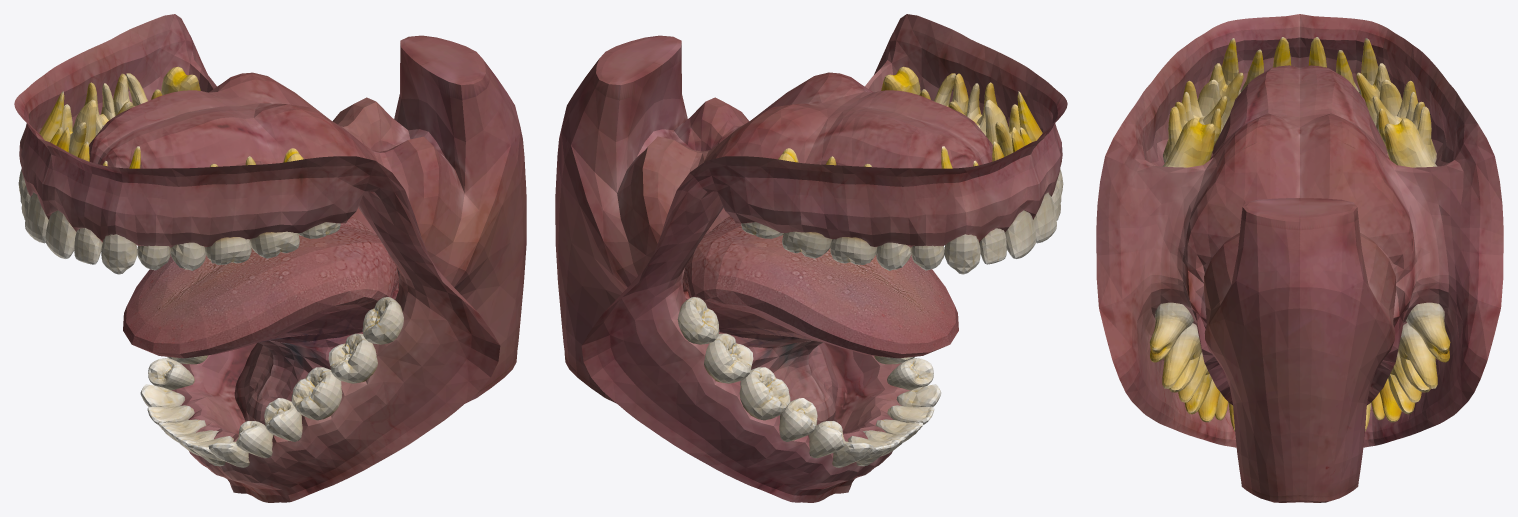
The model's file is 2FZKYMN0ZVCIAEAZLQFIY9D44.fbx.
3 renders of one model, left to right at view 1: azimuth 30°, elevation 25°; view 2: azimuth 150°, elevation 25°; view 3: azimuth 270°, elevation 25°, orthographic. The views are drawn at different scales.
Visible parts, largest first — view 1: Object_MouthPBR_0, Object_TeethPBR_2, Object_MouthPBR_1, Object_TeethPBR_3; view 2: Object_MouthPBR_0, Object_TeethPBR_2, Object_MouthPBR_1, Object_TeethPBR_3; view 3: Object_MouthPBR_0, Object_TeethPBR_2, Object_MouthPBR_1, Object_TeethPBR_3.
Part boxes in pixels (box(x1,y1,x2,y2)): Object_MouthPBR_0: box(14, 14, 526, 502); Object_TeethPBR_2: box(18, 66, 403, 467); Object_MouthPBR_1: box(16, 14, 512, 502); Object_TeethPBR_3: box(18, 68, 403, 460); Object_MouthPBR_0: box(555, 14, 1067, 502); Object_TeethPBR_2: box(677, 67, 1063, 467); Object_MouthPBR_1: box(565, 47, 1061, 491); Object_TeethPBR_3: box(690, 67, 1060, 460); Object_MouthPBR_0: box(1096, 14, 1503, 502); Object_TeethPBR_2: box(1149, 37, 1450, 431); Object_MouthPBR_1: box(1109, 18, 1503, 502); Object_TeethPBR_3: box(1150, 39, 1449, 428).
Size of the model in its own units: 2.5 by 2.02 by 2.08.
